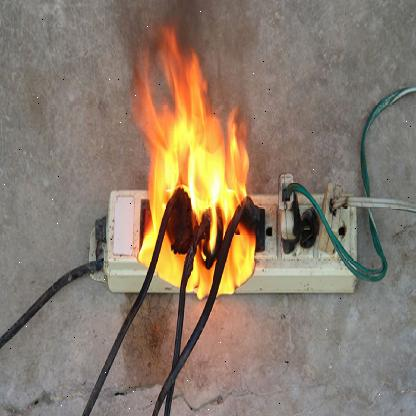fire: (126, 25, 259, 300)
smoke: (56, 0, 218, 92)
